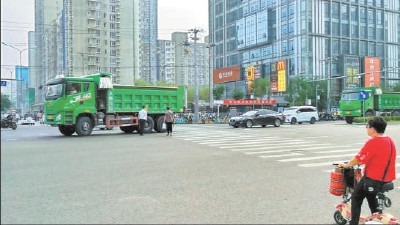garbagetruck: (41, 68, 182, 136)
